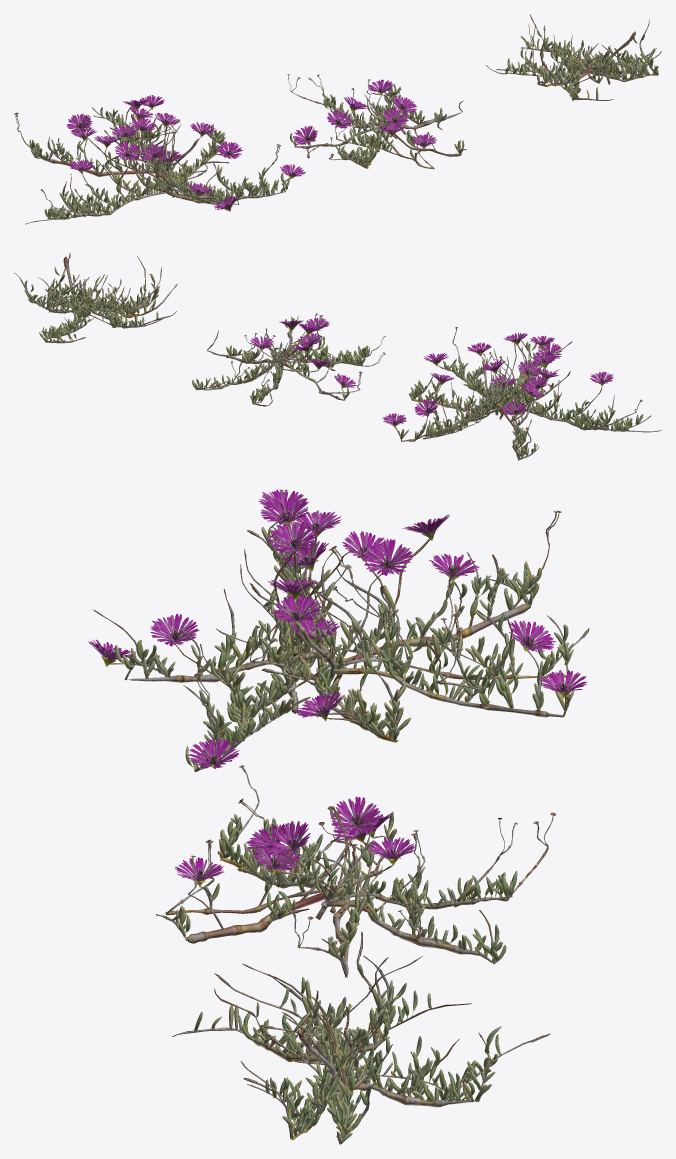
The model's file is leipoldtia_schultzei.glb.
3 renders of one model, top to bottom at view 1: azimuth 30°, elevation 25°; view 2: azimuth 150°, elevation 25°; view 3: azimuth 270°, elevation 25°, orthographic. The views are drawn at different scales.
Visible parts, largest first — view 1: leipoldtia_schultzei_Large_LOD0; view 2: leipoldtia_schultzei_Large_LOD0; view 3: leipoldtia_schultzei_Large_LOD0.
Part boxes in pixels (bbox=[...]): leipoldtia_schultzei_Large_LOD0: bbox=[14, 14, 661, 224]; leipoldtia_schultzei_Large_LOD0: bbox=[14, 253, 661, 460]; leipoldtia_schultzei_Large_LOD0: bbox=[88, 489, 589, 1144].
Size of the model in its own units: 2.31 by 0.3171 by 0.8098.
1 material, 1 textured.
